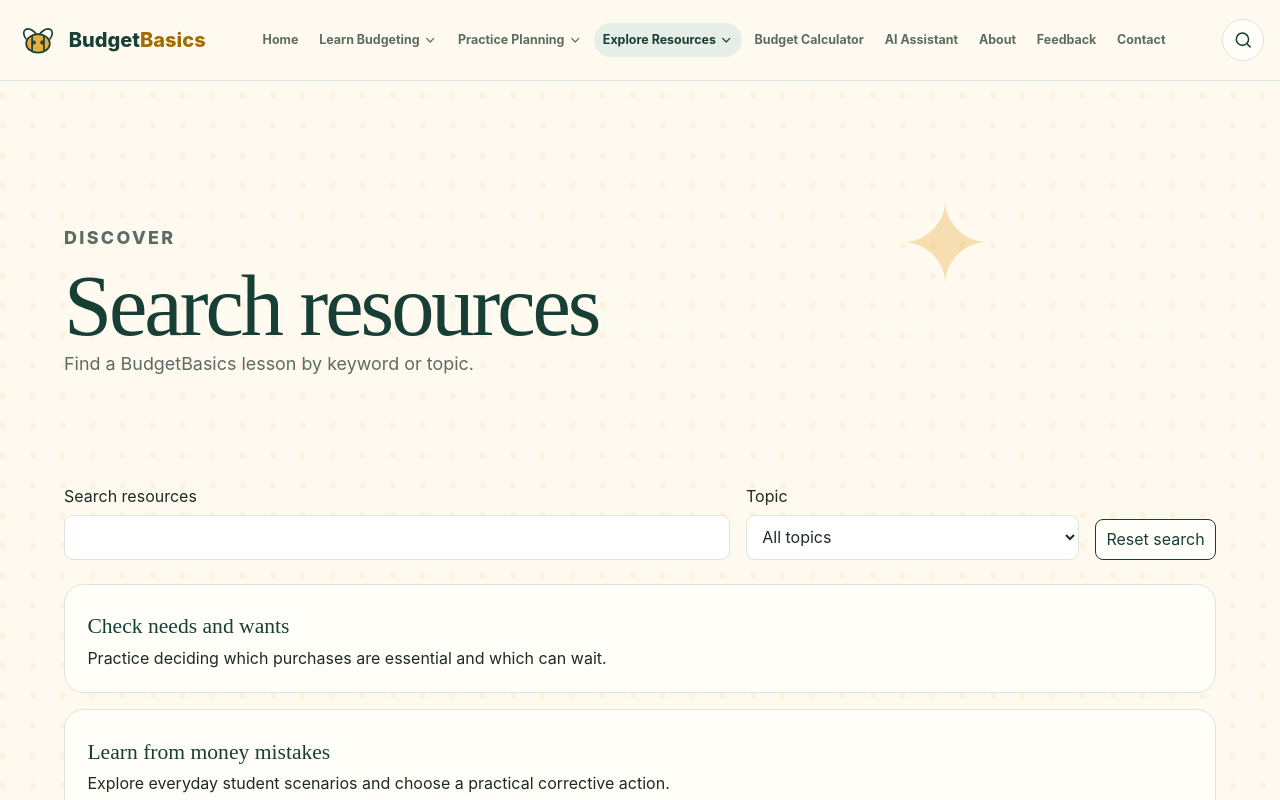
discovery and support pages › filters, sorts, clears, and resets resource search
Select "Saving" in the dropdown labelled "Topic" at (912, 537), box [746,515,1079,560]
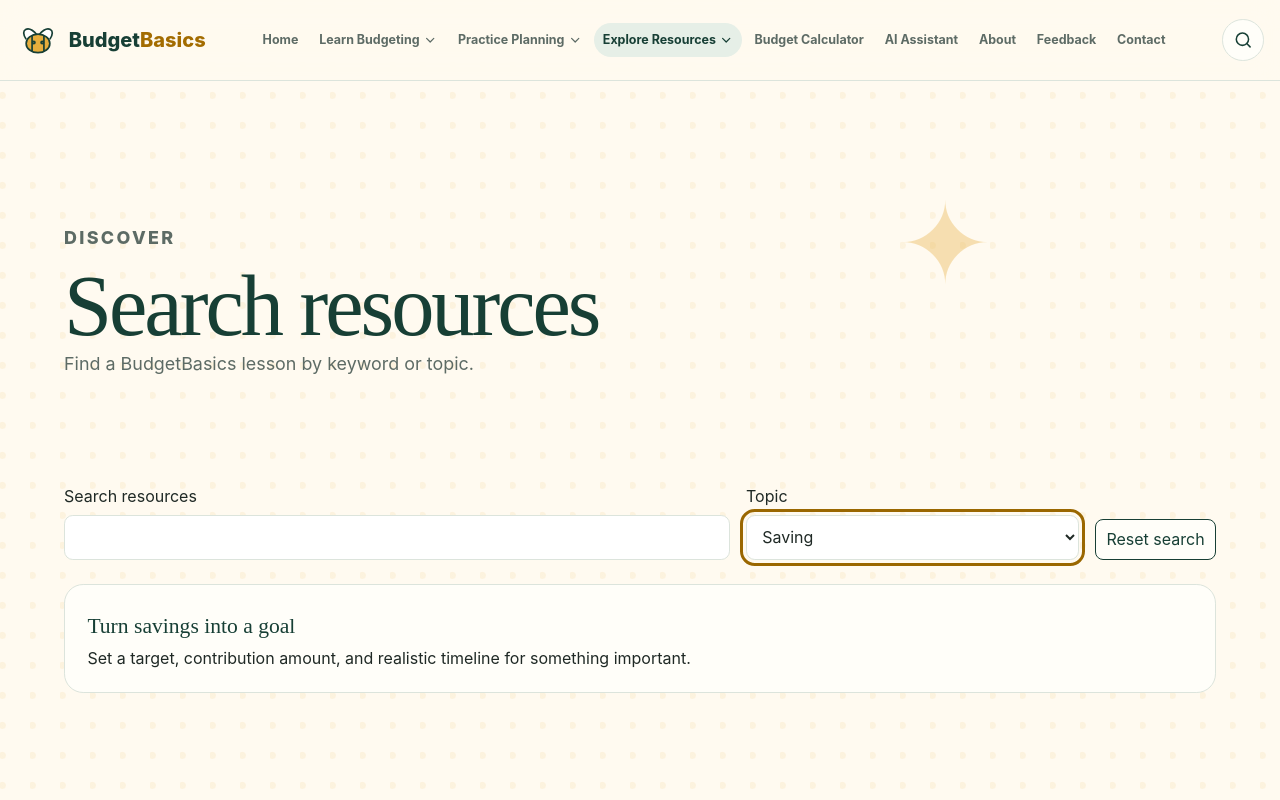
Expected: the link "Turn savings into a goal" is shown, [87,614,295,638]
Type "impossible query" into the search field at (397, 537), box [64,515,730,560]
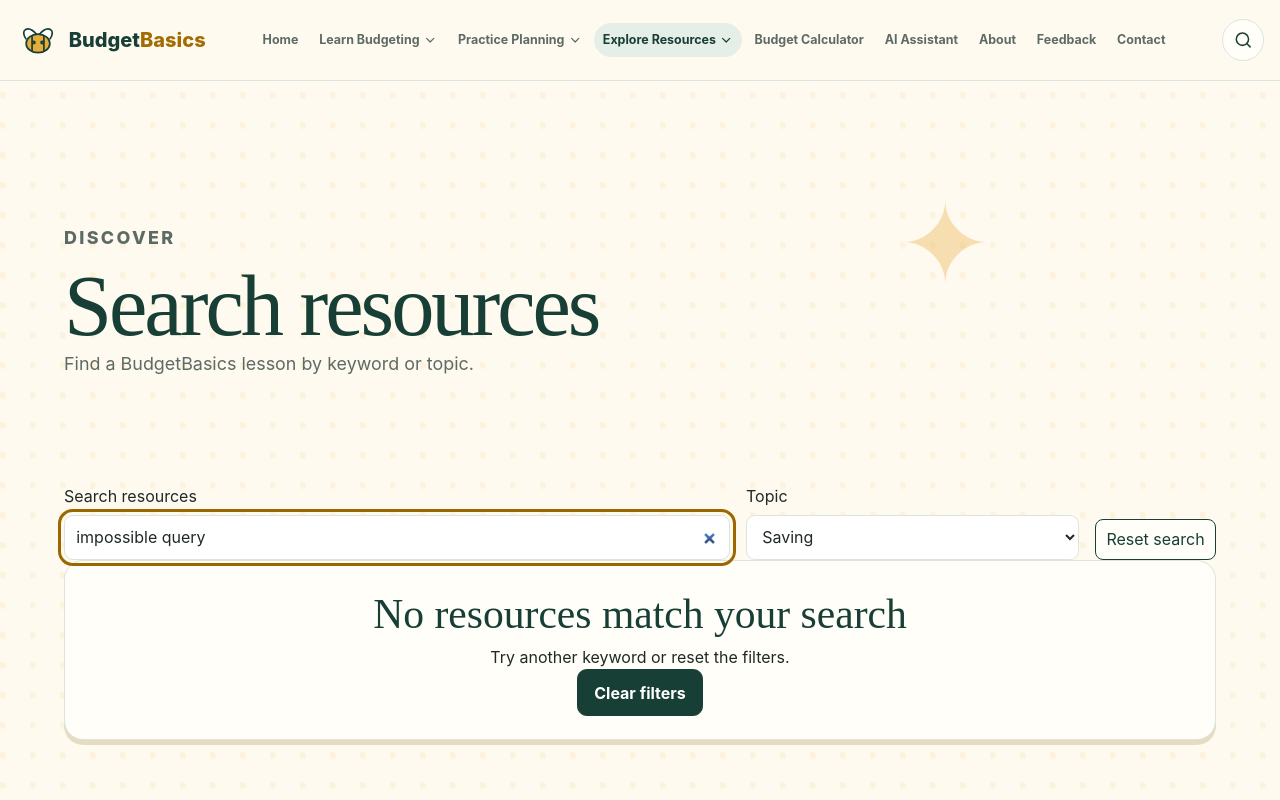
Expected: the heading "No resources match your search" is shown, [373,591,907,637]
Click the button "Reset search" at (1156, 539), box [1095,519,1216,560]
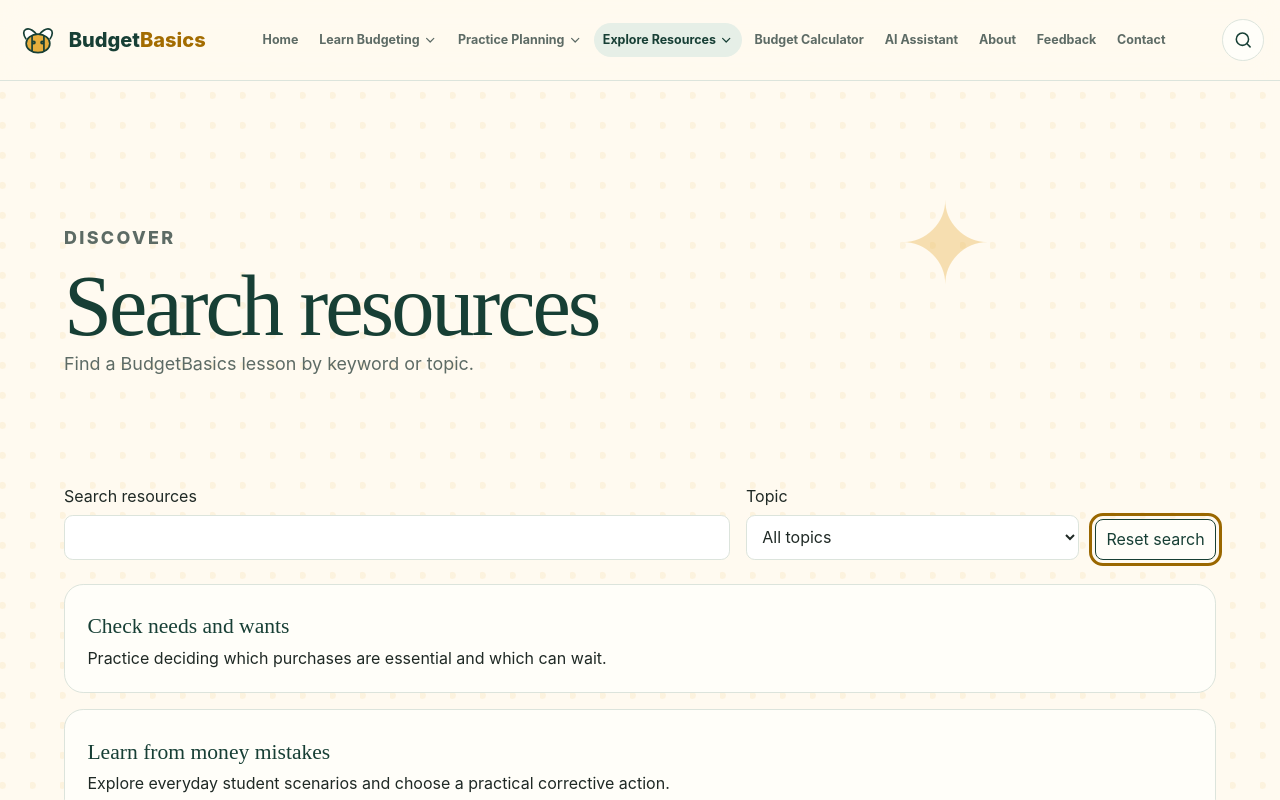
Expected: the search field is empty, [64,515,730,560]
